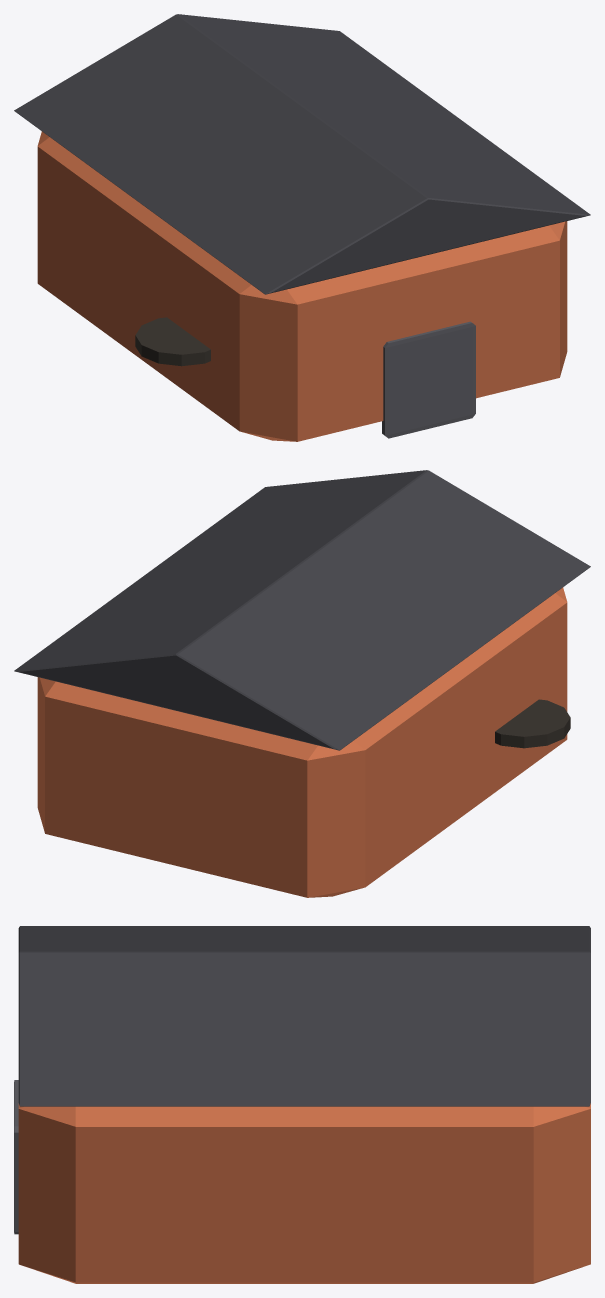
The model's file is cablecar_barn.glb.
3 views of the same model, one above another, from view 1: azimuth 30°, elevation 25°; view 2: azimuth 150°, elevation 25°; view 3: azimuth 270°, elevation 25° (orthographic). The views are drawn at different scales.
Visible parts, largest first — view 1: roof, walls, barndoor, wheel; view 2: roof, walls, wheel; view 3: roof, walls, barndoor.
Part boxes in pixels (box(x1,y1,x2,y2)): roof: box(14, 14, 590, 294); walls: box(37, 131, 567, 441); barndoor: box(382, 321, 475, 438); wheel: box(135, 317, 210, 366); roof: box(14, 470, 590, 750); walls: box(37, 587, 567, 897); wheel: box(495, 699, 570, 748); roof: box(18, 926, 590, 1106); walls: box(18, 1103, 590, 1283); barndoor: box(14, 1080, 18, 1234).
Size of the model in its own units: 20.6 by 11.98 by 24.19.
